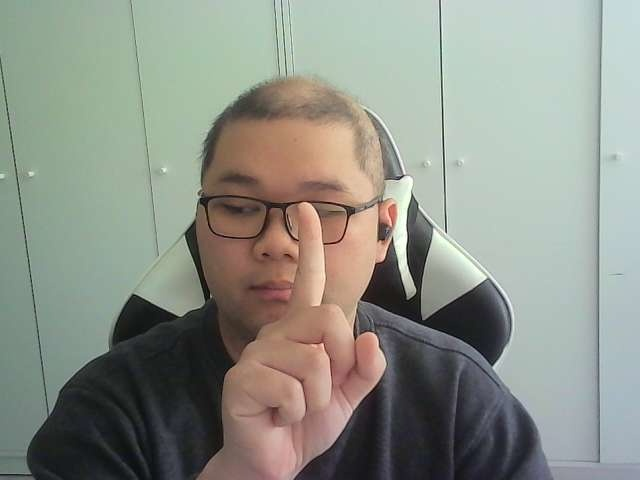One: (222, 201, 386, 467)
